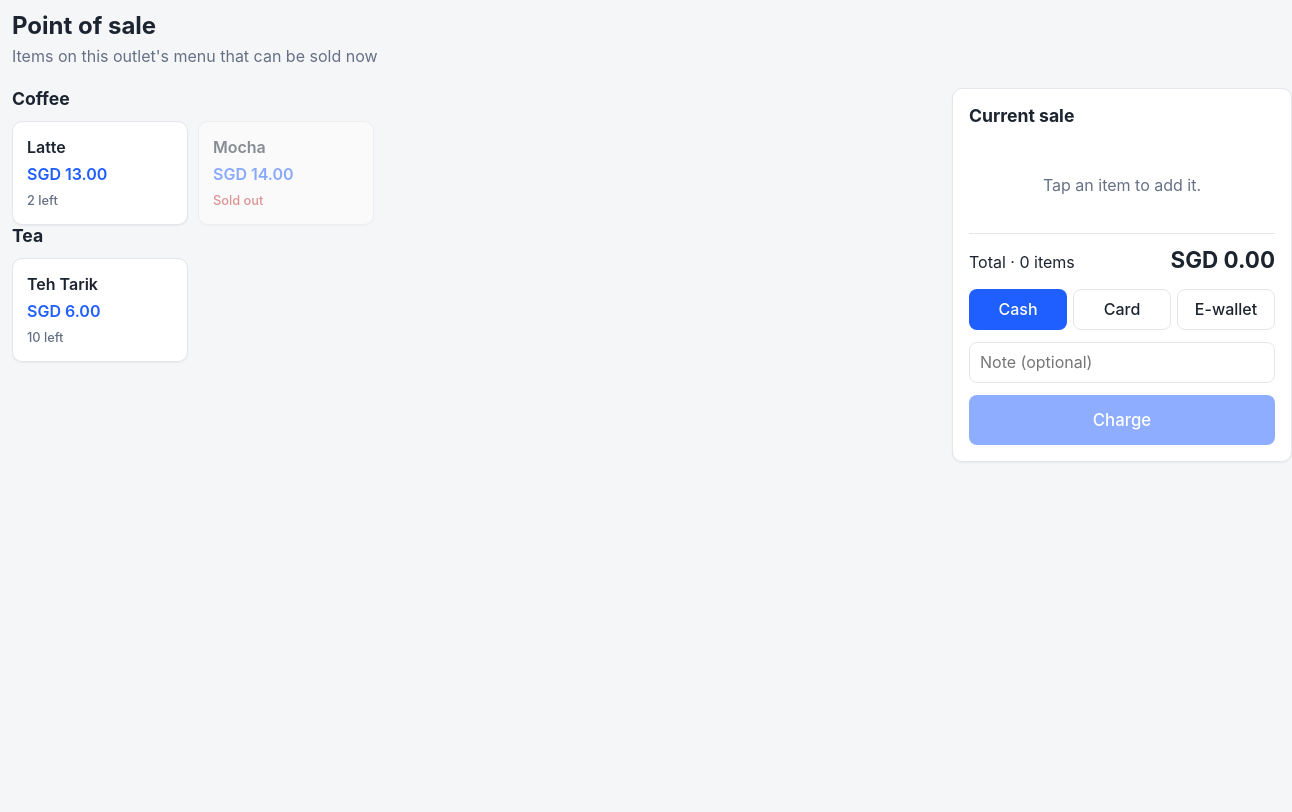
it: PosPage › shows the API reason when stock ran out meanwhile and reloads the menu
The image size is (1292, 812).
Expected: the text "Latte" is shown, [27,136,66,159]
Step 1. Click the button "Latte SGD 13.00 2 left" → {"x": 100, "y": 173}, box [12,121,188,225]
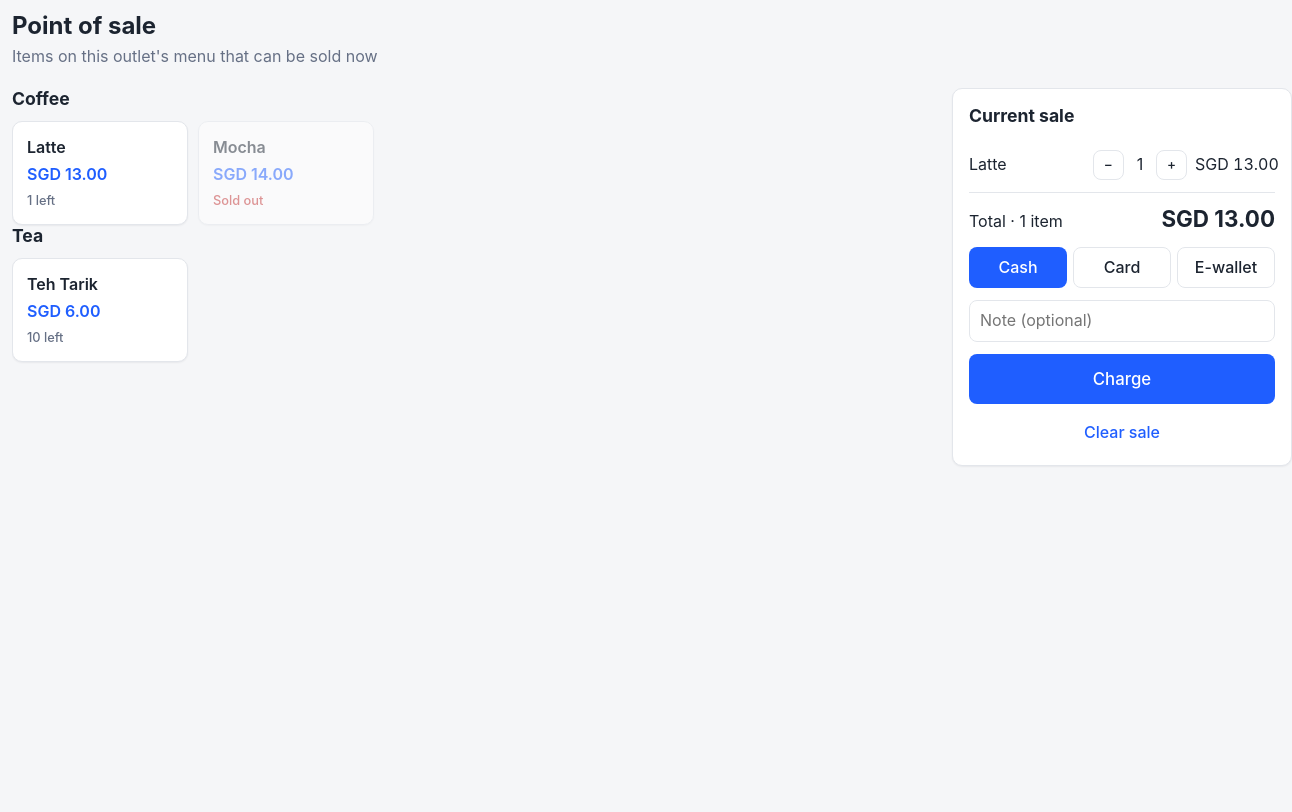
Step 2. Click the button "Charge" → {"x": 1122, "y": 379}, box [969,354,1275,404]
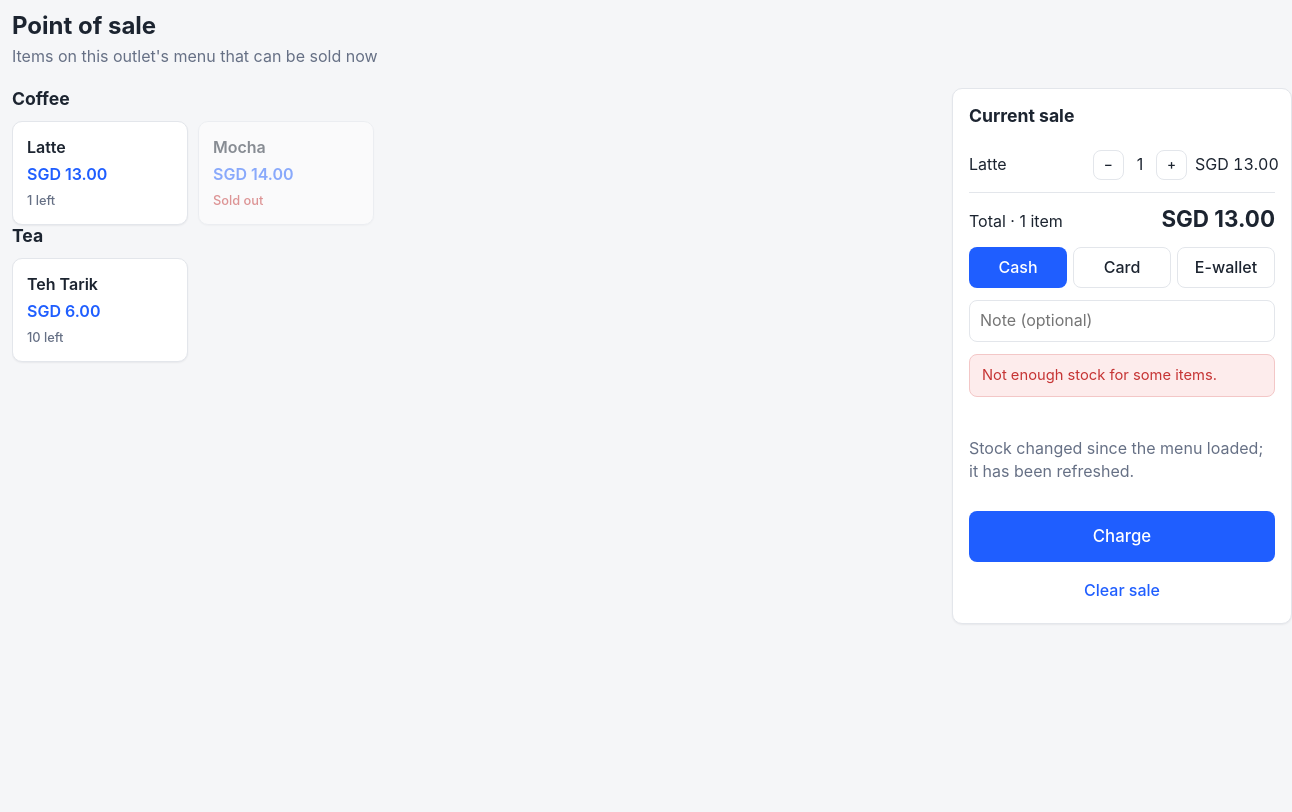
Expected: the number of list items is 1, [969,150,1275,180]
Expected: the message reads "Not enough stock for some items.", [982,366,1217,384]
